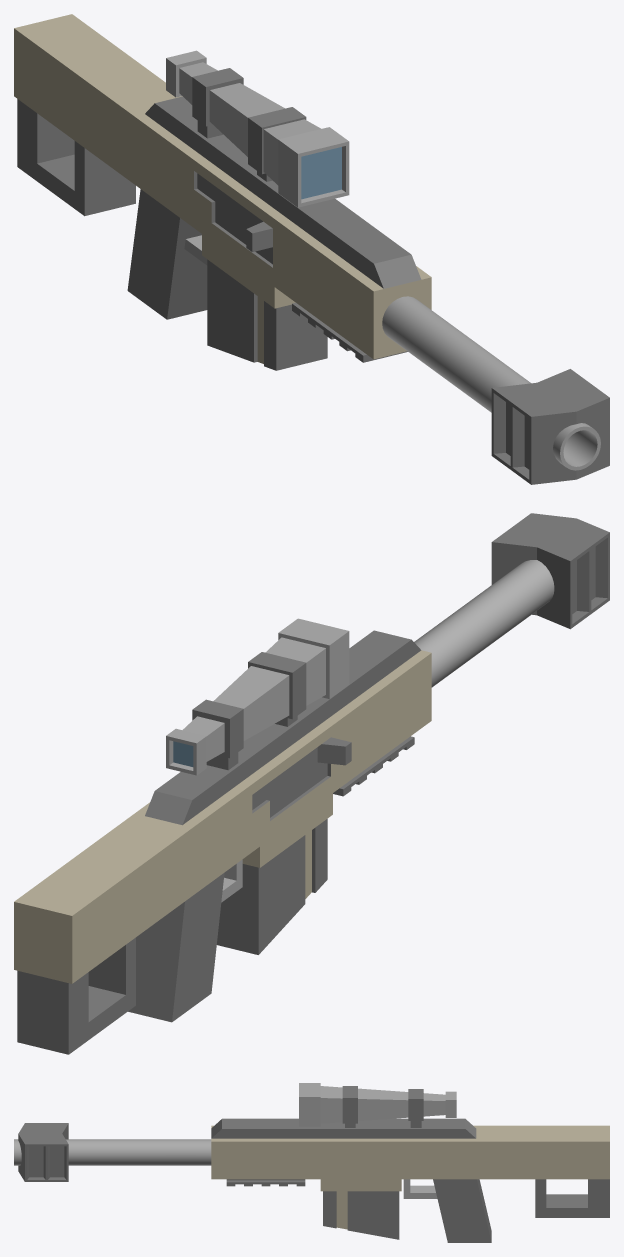
File: Sniper.fbx
3 renders of one model, top to bottom at view 1: azimuth 30°, elevation 25°; view 2: azimuth 150°, elevation 25°; view 3: azimuth 270°, elevation 25°, orthographic. The views are drawn at different scales.
Parts seen in each view (by area): view 1: polySurface1; view 2: polySurface1; view 3: polySurface1.
Boxes of the visible parts, <box> form: polySurface1: <box>14,14,609,484</box>; polySurface1: <box>14,513,609,1054</box>; polySurface1: <box>14,1083,609,1242</box>.
Bounding box in the file's own units: 0.0156 × 0.0444 × 0.1632.
